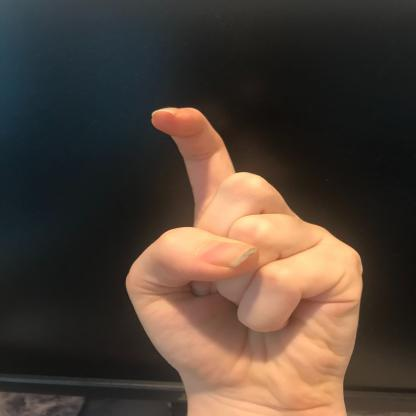X: (122, 104, 368, 405)
